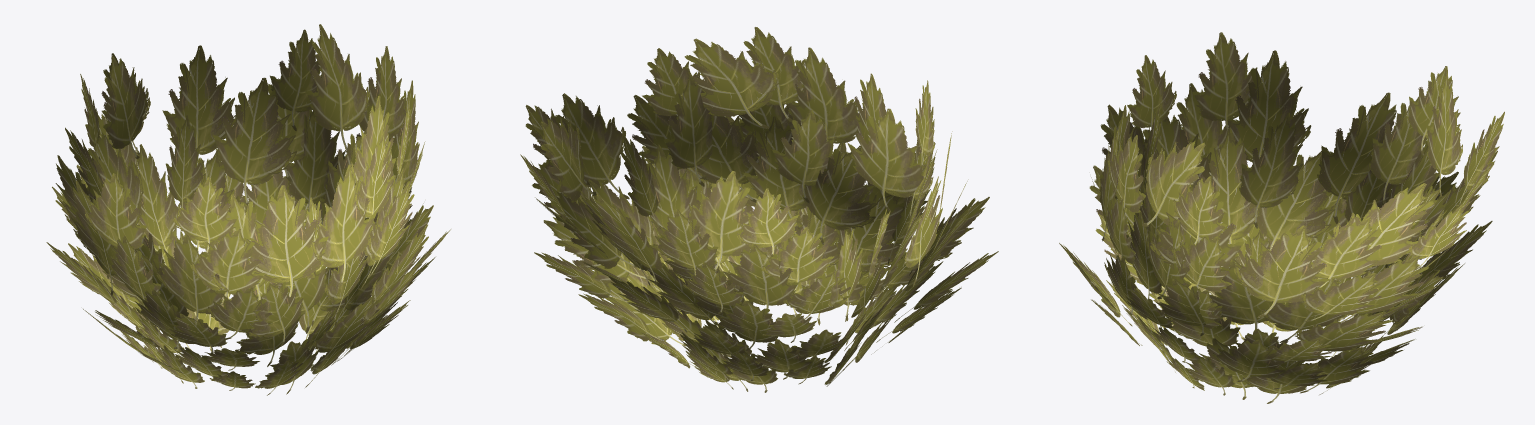
Rendered from Bush.fbx.
3 views of the same model, side by side, from view 1: azimuth 30°, elevation 25°; view 2: azimuth 150°, elevation 25°; view 3: azimuth 270°, elevation 25° (orthographic). The views are drawn at different scales.
Visible parts, largest first — view 1: Bush; view 2: Bush; view 3: Bush.
Part boxes in pixels (bbox=[...]): Bush: bbox=[46, 24, 450, 395]; Bush: bbox=[520, 27, 998, 392]; Bush: bbox=[1059, 32, 1504, 403].
Bounding box in the file's own units: 12.65 × 9.4 × 12.31.
